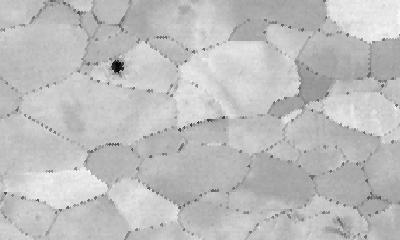good_void: (104, 53, 131, 86), (189, 80, 200, 90)
